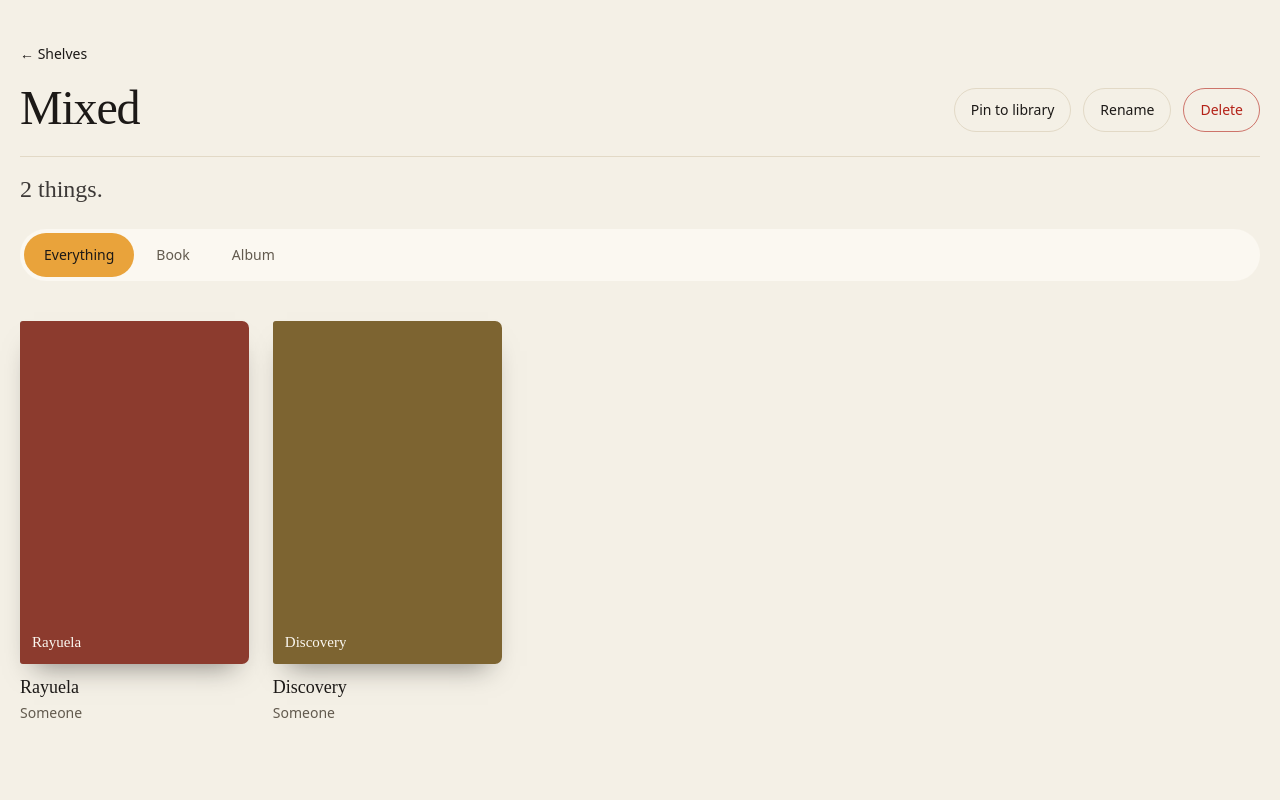
Test case: ShelfPage › pins and unpins the shelf, remembered across renders
Expected: the heading "Mixed" is shown, top-left (20, 84), bottom-right (139, 132)
Click the button "Pin to library" at (1013, 110), box top-left (954, 88), bottom-right (1071, 132)
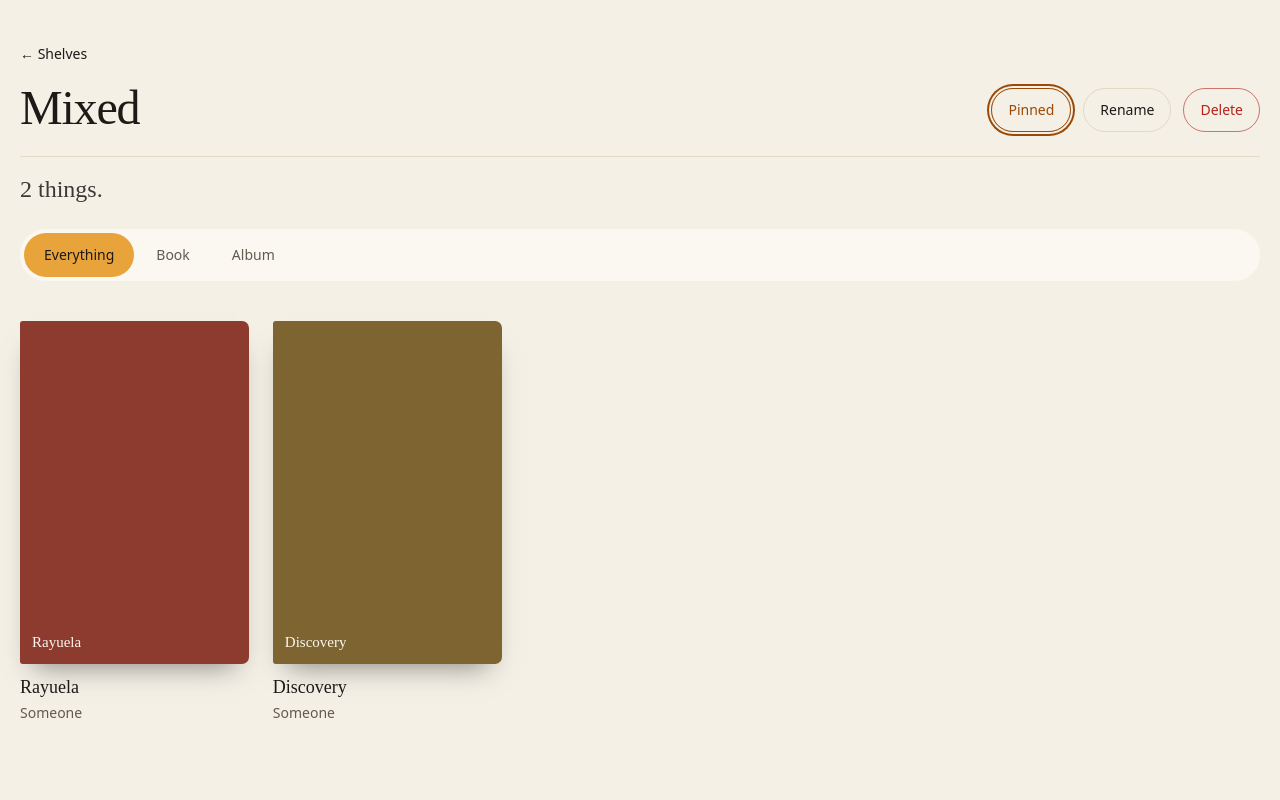
Expected: the button "Pinned" is shown
Click the button "Pinned" at (1031, 110), box top-left (991, 88), bottom-right (1071, 132)
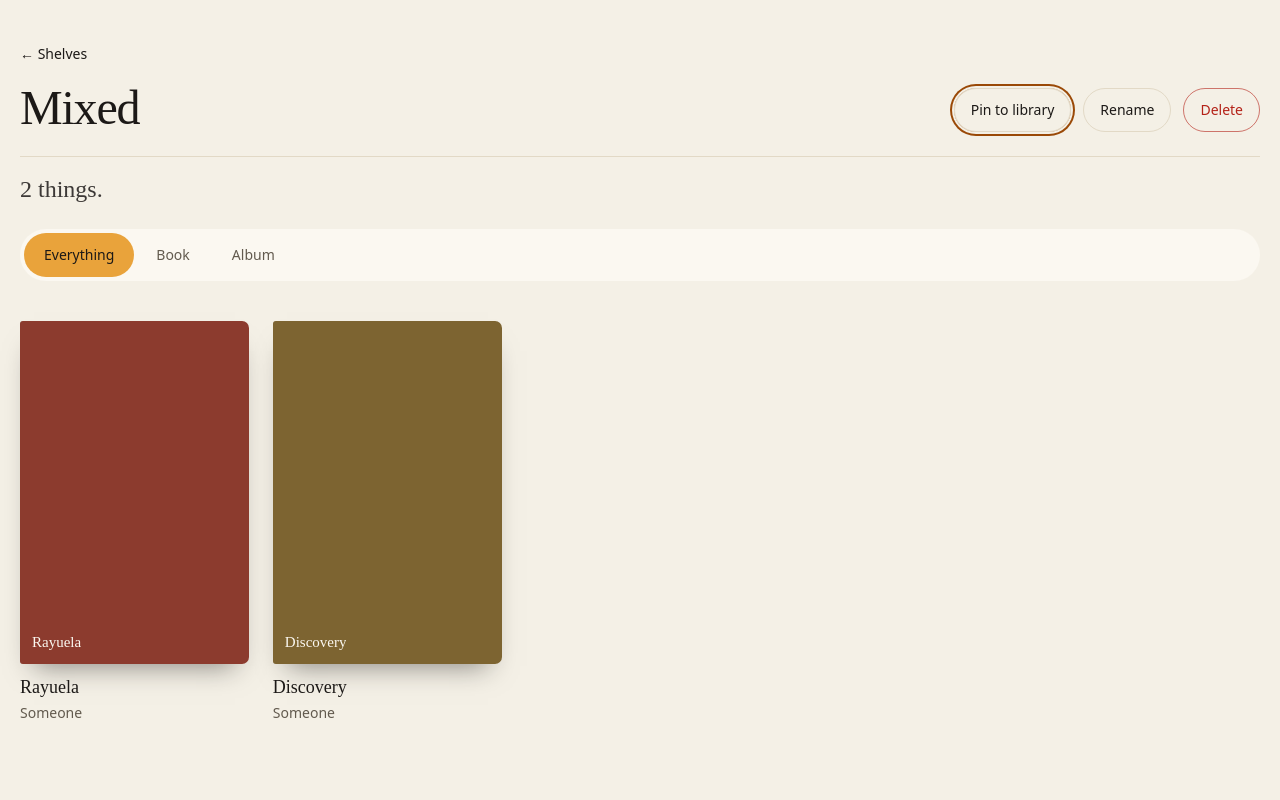
Expected: the button "Pin to library" is shown, top-left (954, 88), bottom-right (1071, 132)
